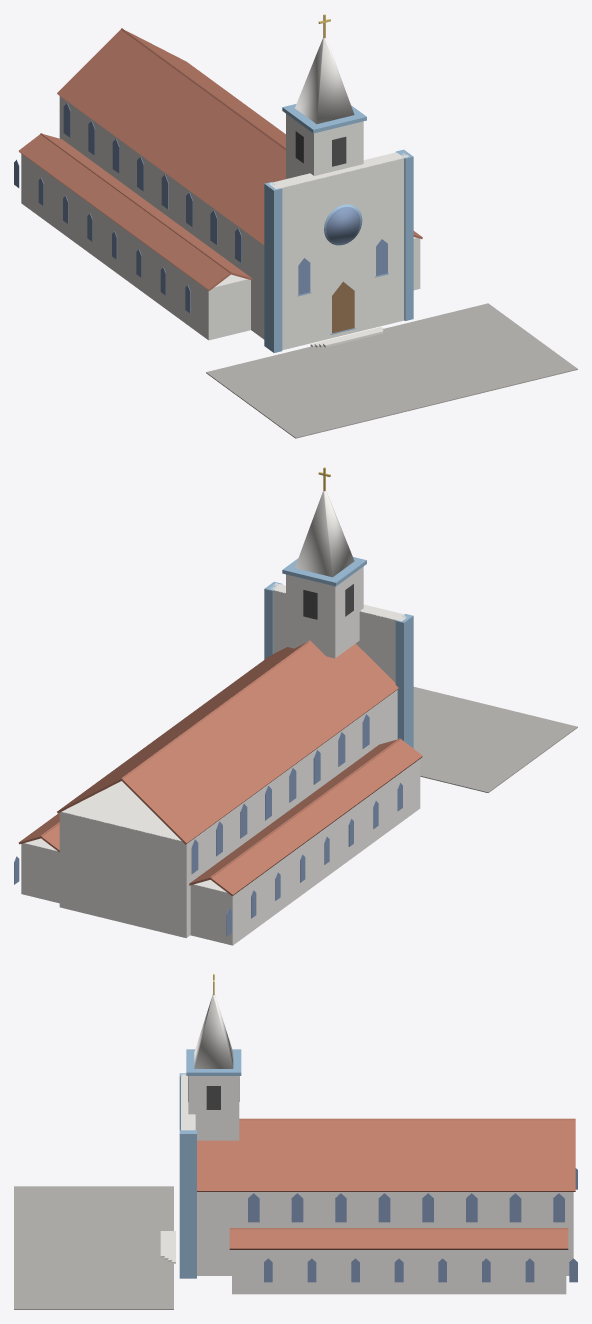
File: church_ao.glb
The picture shows the model from 3 angles, top to bottom: view 1: azimuth 30°, elevation 25°; view 2: azimuth 150°, elevation 25°; view 3: azimuth 270°, elevation 25°; orthographic projection. The views are drawn at different scales.
Visible parts, largest first — view 1: church; view 2: church; view 3: church.
Boxes of the visible parts, left/top/right/bottom form: church: left=14, top=14, right=577, bottom=438; church: left=14, top=467, right=577, bottom=945; church: left=14, top=974, right=577, bottom=1309.
Bounding box in the file's own units: 40 × 41.6 × 77.61.
